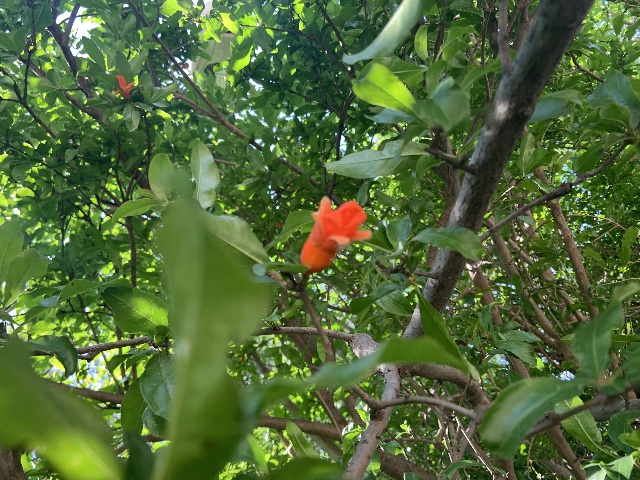flower: (300, 195, 371, 272), (112, 74, 135, 99)
